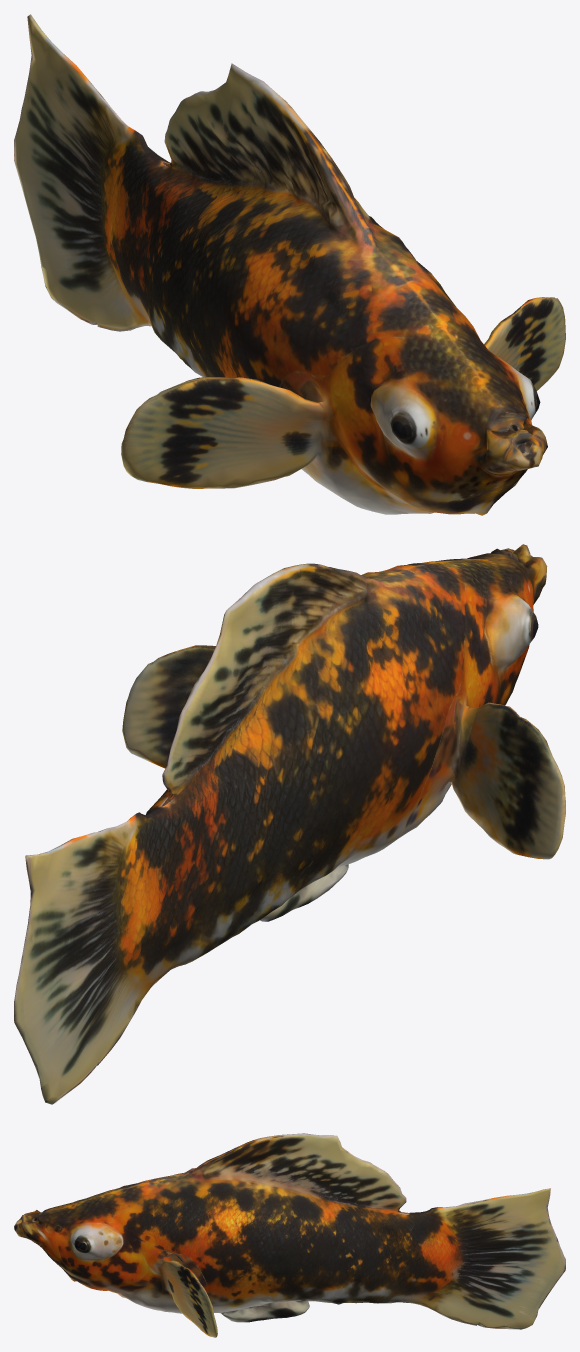
File: molly_0604071229_texture.glb
3 views of the same model, one above another, from view 1: azimuth 30°, elevation 25°; view 2: azimuth 150°, elevation 25°; view 3: azimuth 270°, elevation 25° (orthographic). The views are drawn at different scales.
Bounding box in the file's own units: 0.9809 × 0.7828 × 2.
Materials: 1 (1 with a texture image).
